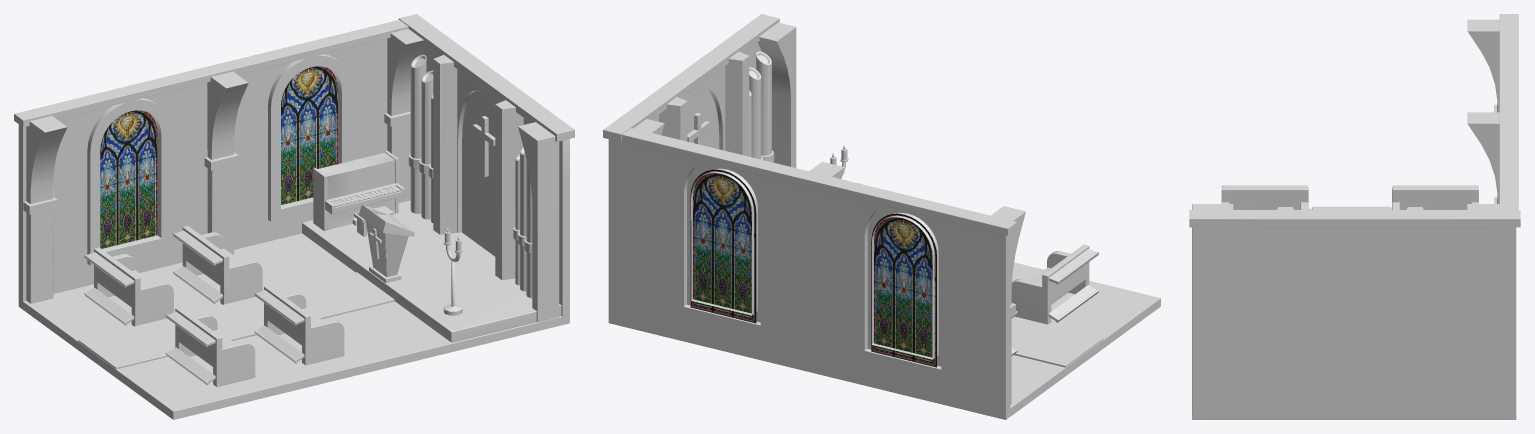
Rendered from Church_00.fbx.
3 renders of one model, left to right at view 1: azimuth 30°, elevation 25°; view 2: azimuth 150°, elevation 25°; view 3: azimuth 270°, elevation 25°, orthographic. The views are drawn at different scales.
Visible parts, largest first — view 1: Cube.014, Cube.016, Cube.003, Cube.012, Cube.013, Cube.001, Cube.015, Cube.002, Cube.011, Cube.004, Circle, Cube.018 (+5 smaller); view 2: Cube.014, Cube.013, Cube.004, Cube.016, Cube.015, Cube.003, Cube.012, Cube.007, Cube.002, Cube.011, Circle, Cube.008; view 3: Cube.014, Cube.007, Cube.012, Cube.004, Cube.003, Cube.011.
Boxes of the visible parts, bbox=[...] form: Cube.014: bbox=[18, 38, 569, 324]; Cube.016: bbox=[23, 233, 562, 419]; Cube.003: bbox=[23, 29, 559, 322]; Cube.012: bbox=[84, 226, 344, 386]; Cube.013: bbox=[100, 66, 337, 248]; Cube.001: bbox=[302, 200, 561, 342]; Cube.015: bbox=[87, 54, 351, 265]; Cube.002: bbox=[433, 55, 523, 280]; Cube.011: bbox=[78, 272, 394, 369]; Cube.004: bbox=[14, 20, 408, 127]; Circle: bbox=[408, 54, 532, 298]; Cube.018: bbox=[313, 150, 404, 236]; Cube.014: bbox=[608, 42, 1010, 419]; Cube.013: bbox=[690, 169, 936, 367]; Cube.004: bbox=[622, 128, 1016, 235]; Cube.016: bbox=[1010, 262, 1160, 416]; Cube.015: bbox=[684, 163, 941, 369]; Cube.003: bbox=[634, 22, 1025, 404]; Cube.012: bbox=[1011, 244, 1099, 355]; Cube.007: bbox=[603, 14, 779, 141]; Cube.002: bbox=[659, 51, 749, 156]; Cube.011: bbox=[1011, 316, 1103, 367]; Circle: bbox=[749, 51, 774, 162]; Cube.008: bbox=[681, 66, 725, 150]; Cube.014: bbox=[1192, 227, 1516, 419]; Cube.007: bbox=[1189, 210, 1520, 227]; Cube.012: bbox=[1221, 185, 1478, 209]; Cube.004: bbox=[1499, 14, 1518, 209]; Cube.003: bbox=[1192, 19, 1499, 209]; Cube.011: bbox=[1312, 206, 1391, 209].
Bounding box in the file's own units: 3.96 × 2.69 × 1.82.
